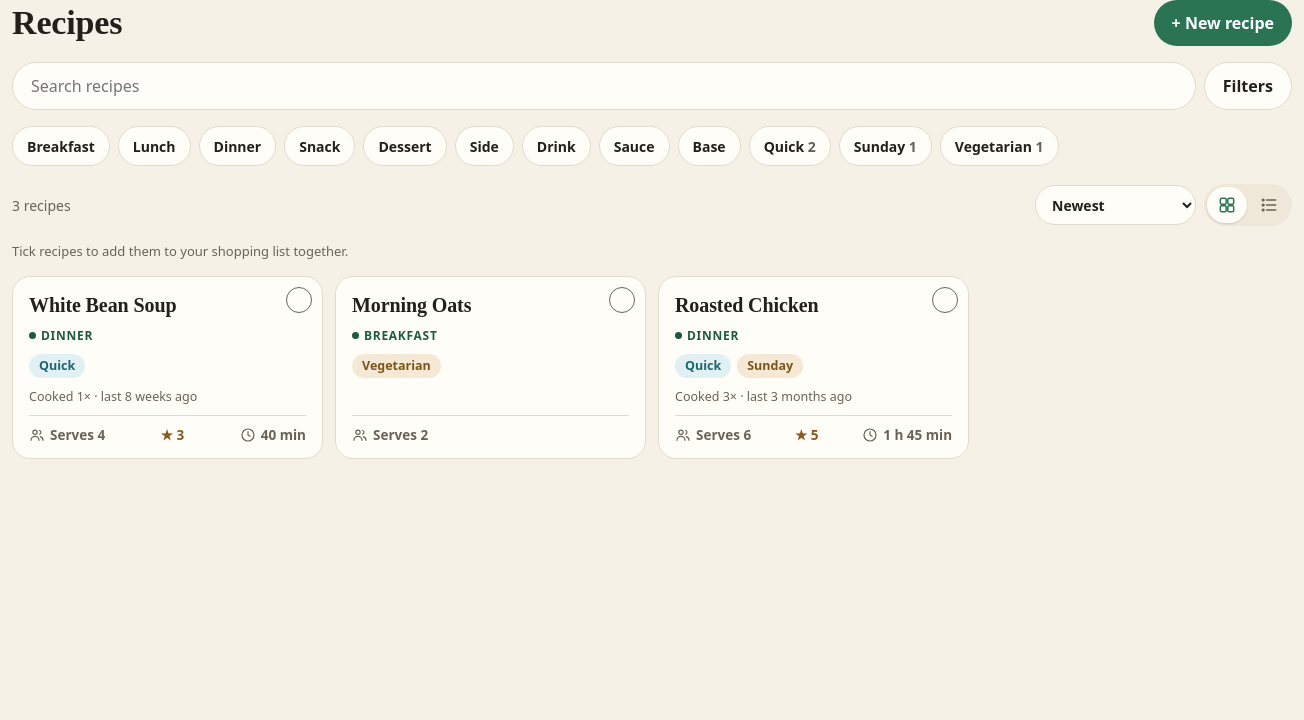
Test case: Library › surfaces an error and keeps the selection when the multi-add fails
Click the checkbox named "Select White Bean Soup" at (299,300), box [286, 287, 312, 313]
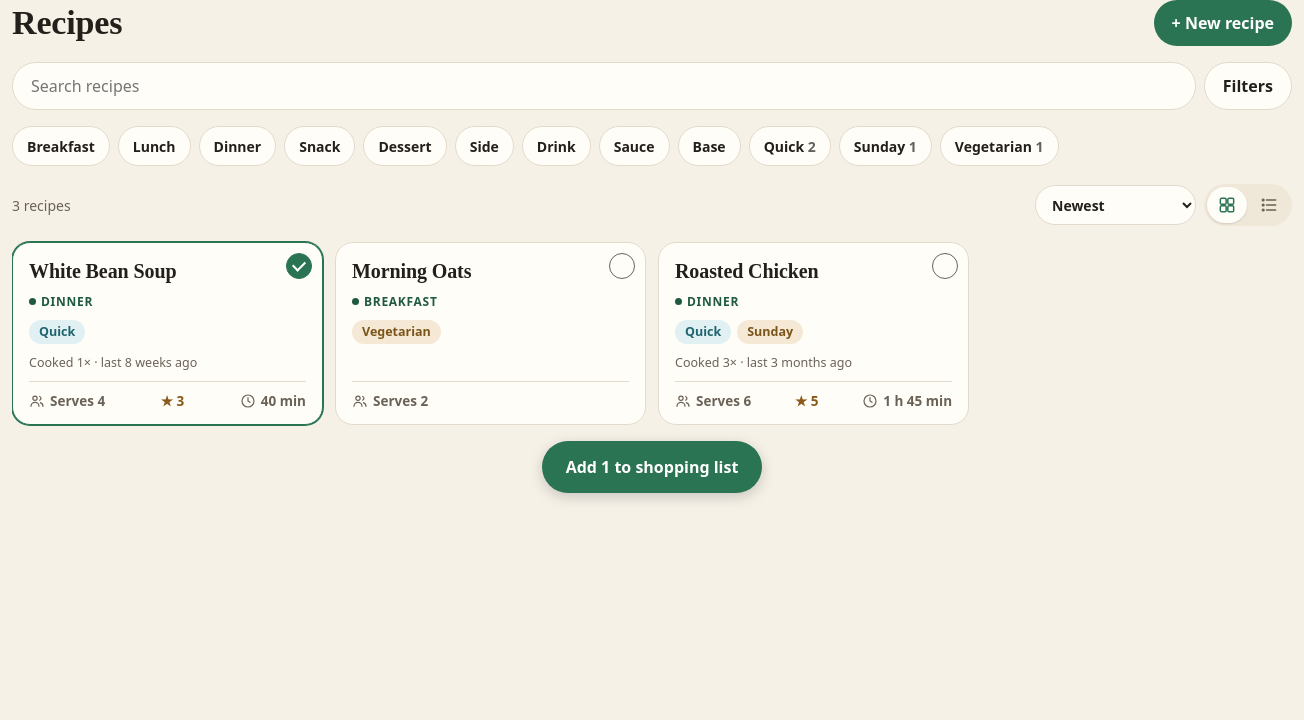
Click the button "Add 1 to shopping list" at (652,466), box [542, 440, 762, 492]
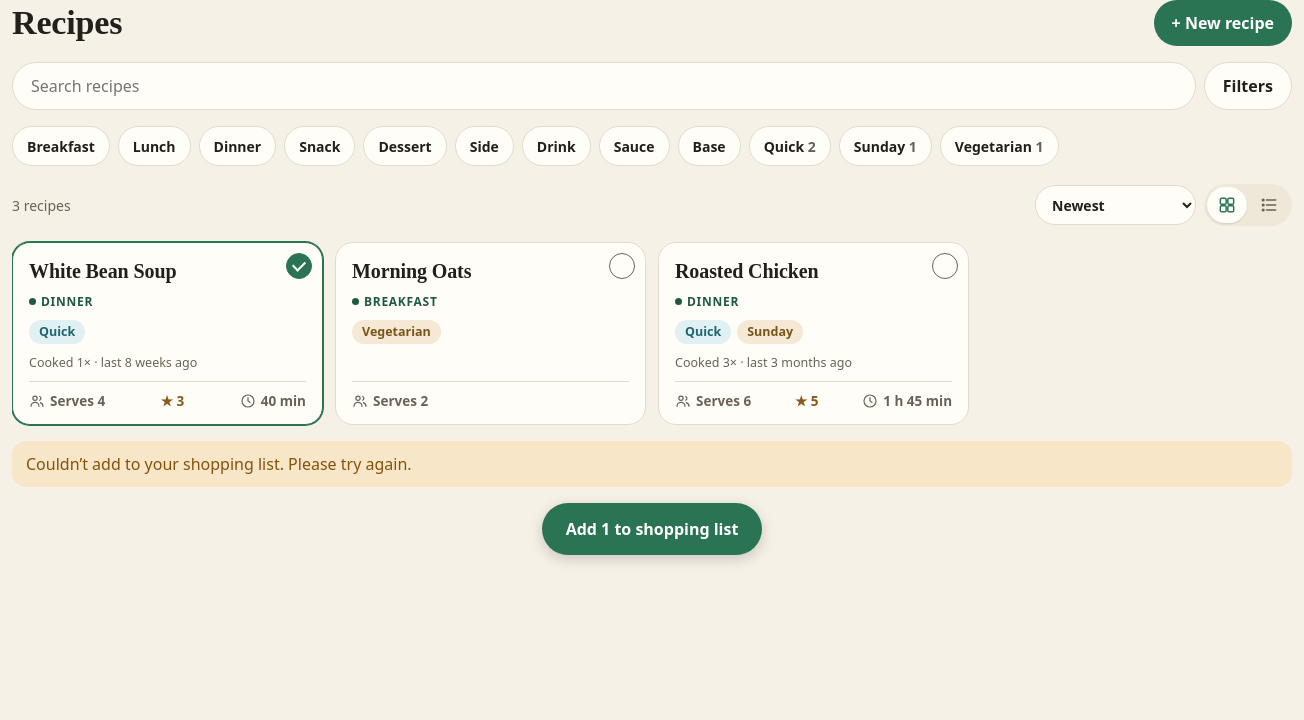
Result: the button "Add 1 to shopping list" is shown at [542, 502, 762, 554]
Result: the message shows "shopping list" at [26, 452, 412, 474]
